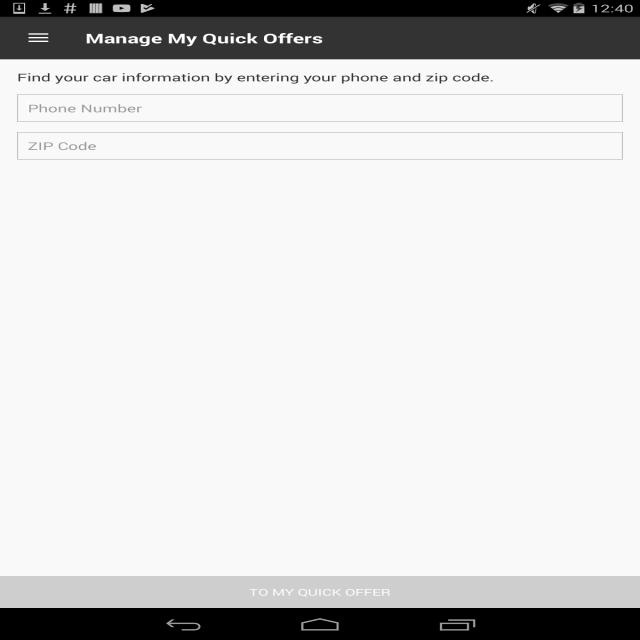Button: (4, 572, 635, 612)
EditText: (12, 129, 628, 164), (12, 91, 627, 124)
ImageButton: (20, 28, 59, 46)
TextView: (14, 71, 499, 86), (80, 29, 332, 48)
